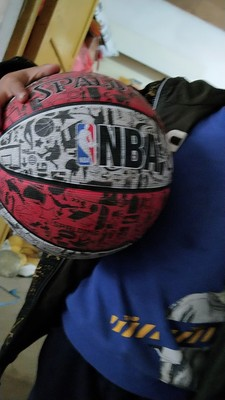ball: (1, 71, 174, 261)
